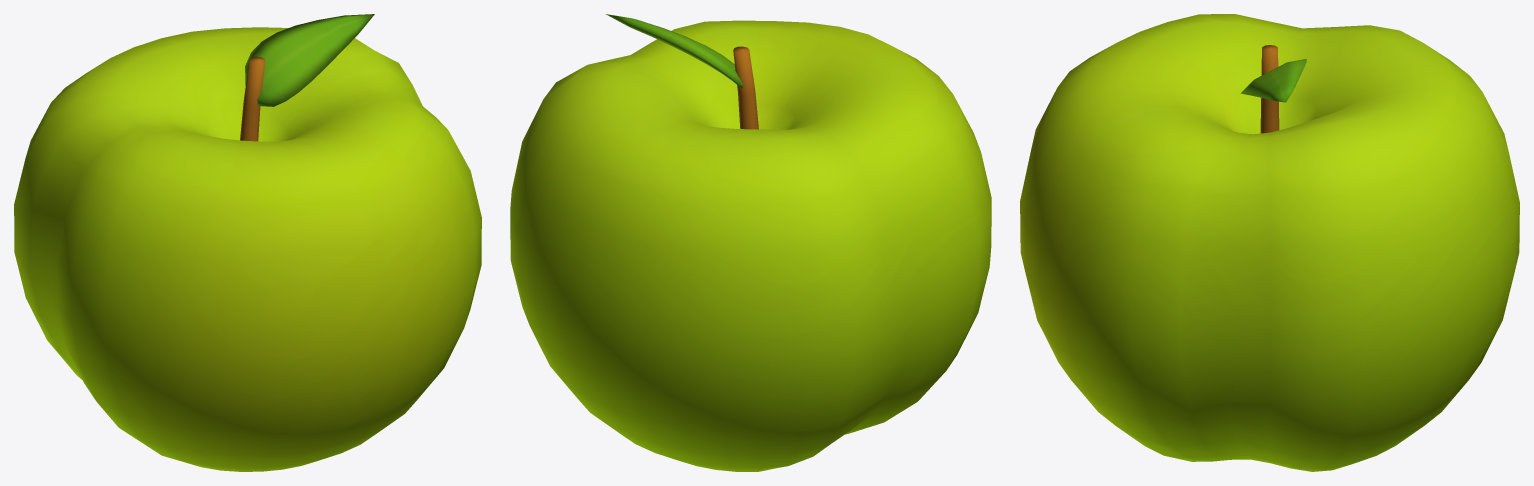
The model's file is Apple.fbx.
The picture shows the model from 3 angles, left to right: view 1: azimuth 30°, elevation 25°; view 2: azimuth 150°, elevation 25°; view 3: azimuth 270°, elevation 25°; orthographic projection. The views are drawn at different scales.
Visible parts, largest first — view 1: Main_Export, Leaf.003_Export, Rootlet_Export; view 2: Main_Export, Leaf.003_Export, Rootlet_Export; view 3: Main_Export, Leaf.003_Export, Rootlet_Export.
Boxes of the visible parts, box(x1,y1,x2,y2) form: Main_Export: box(14, 27, 481, 471); Leaf.003_Export: box(245, 14, 374, 106); Rootlet_Export: box(240, 56, 265, 141); Main_Export: box(510, 20, 991, 471); Leaf.003_Export: box(605, 14, 742, 88); Rootlet_Export: box(733, 46, 758, 129); Main_Export: box(1020, 14, 1519, 471); Leaf.003_Export: box(1240, 59, 1306, 102); Rootlet_Export: box(1260, 45, 1279, 133).
Bounding box in the file's own units: 16.77 × 15.65 × 17.17.
